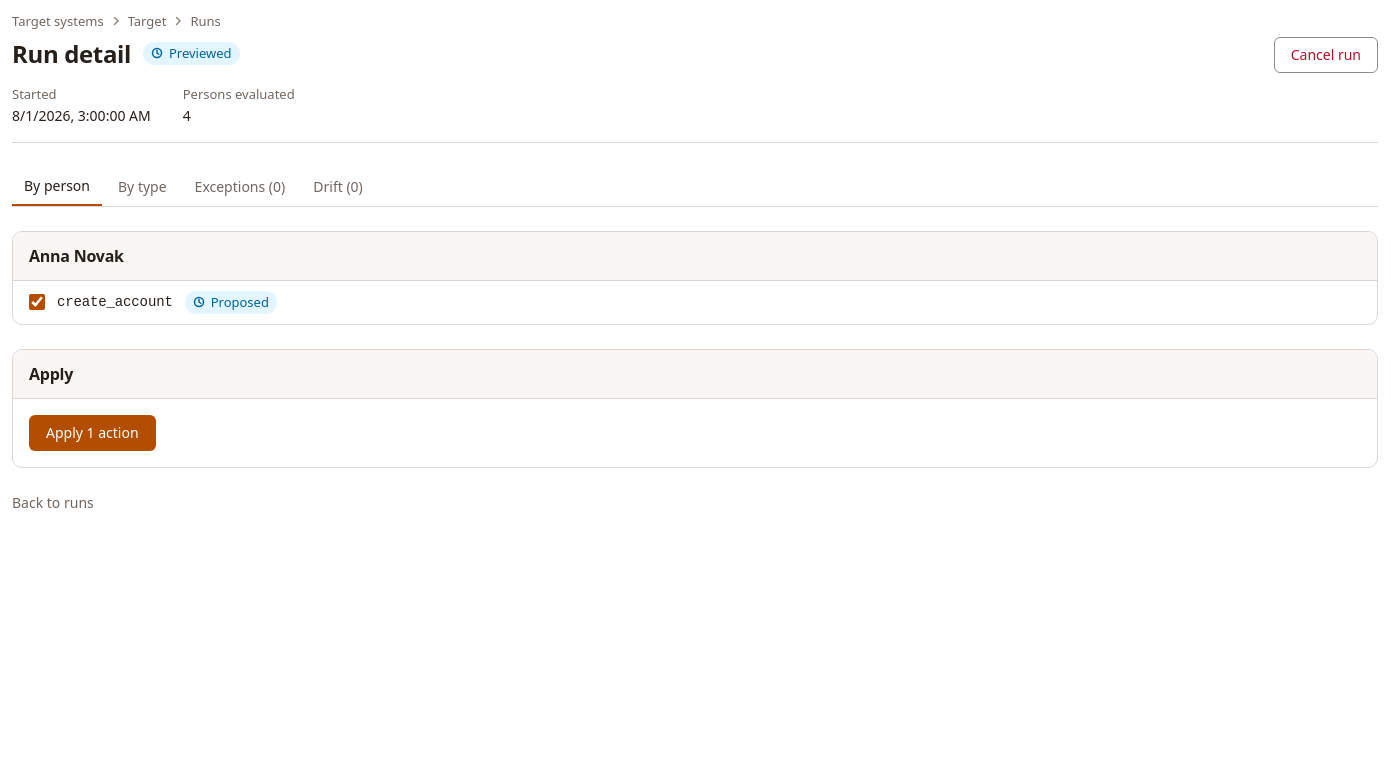
Test: ProvisionRunDetailPage › says how many actions were deferred for want of a confirmation
The width and height of the screenshot is (1390, 780).
Expected: the heading "Anna Novak" is shown, x1=29 y1=244 x2=124 y2=268
Click the button "Apply 1 action" at (92, 433), box x1=29 y1=415 x2=156 y2=451
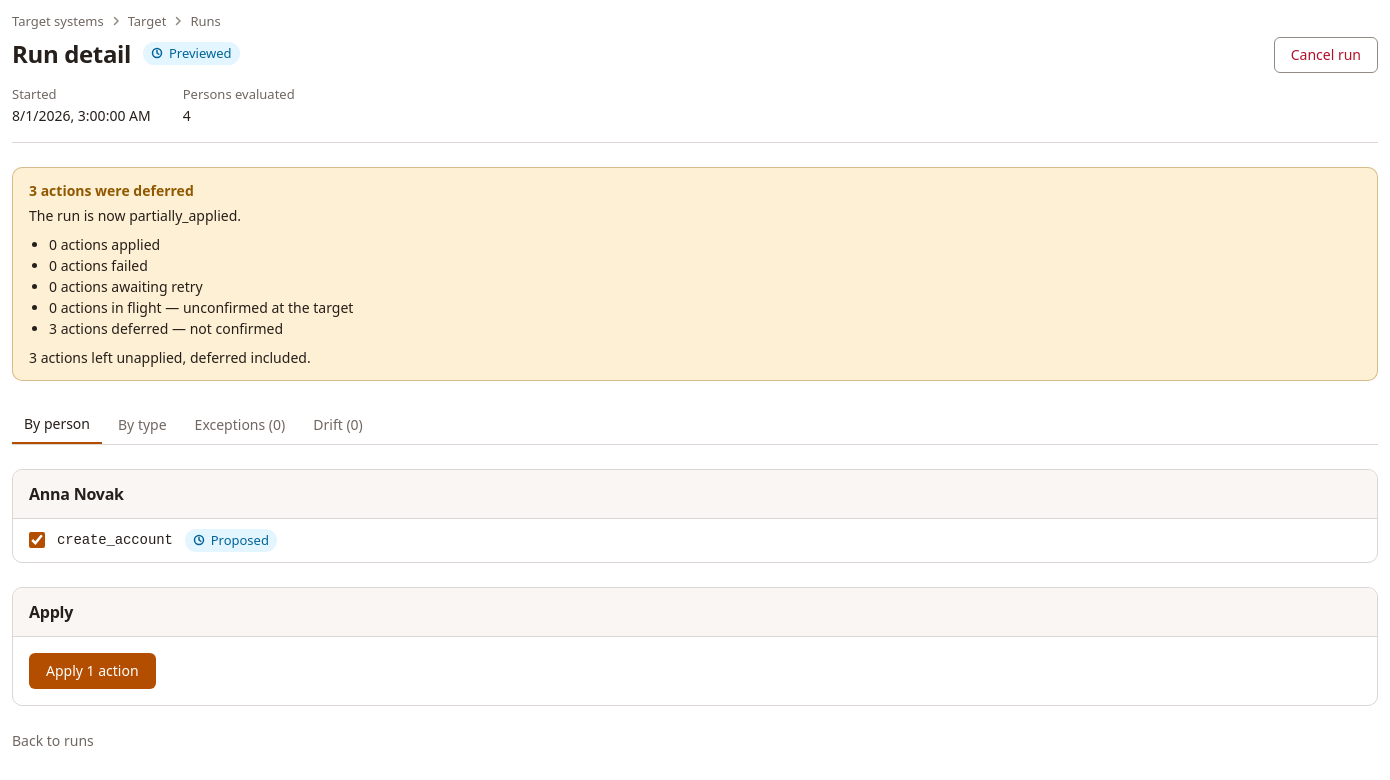
Expected: the text "3 actions were deferred" is shown, x1=29 y1=181 x2=194 y2=200
Expected: the text "3 actions were deferred" shows "3 actions deferred — not confirmed", x1=12 y1=167 x2=1378 y2=381
